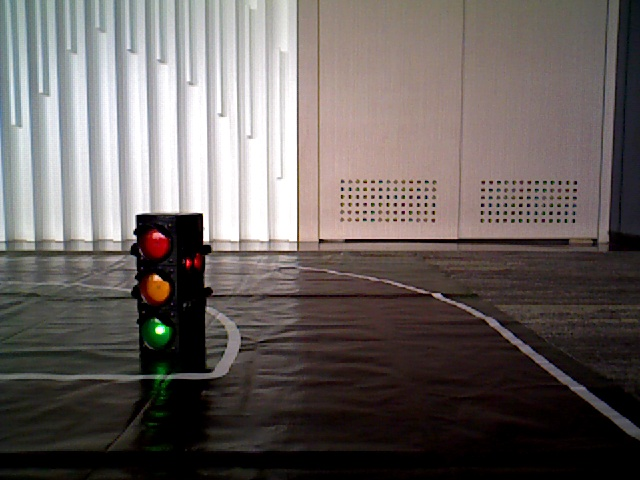green: (139, 222, 186, 352)
